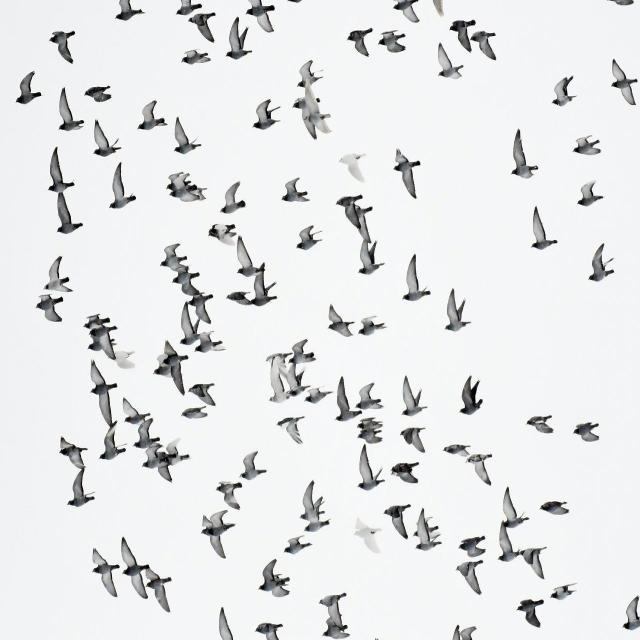bird: (88, 360, 120, 428), (290, 90, 330, 142), (152, 339, 190, 392), (198, 512, 239, 560), (45, 149, 78, 207), (229, 274, 280, 310), (176, 310, 219, 352), (336, 194, 378, 236), (398, 256, 435, 303), (608, 56, 639, 110), (510, 130, 543, 180), (82, 314, 121, 355), (152, 442, 191, 483), (107, 163, 140, 211), (393, 148, 423, 200), (91, 548, 121, 600), (180, 3, 220, 42), (528, 205, 561, 251), (396, 375, 430, 418), (296, 479, 330, 522), (118, 535, 150, 579), (460, 445, 494, 485), (62, 470, 95, 511), (147, 566, 175, 614), (443, 290, 473, 334), (258, 559, 291, 599), (223, 22, 254, 64), (56, 89, 86, 132), (356, 448, 386, 491), (330, 378, 358, 424), (170, 117, 203, 156), (433, 41, 464, 82), (500, 486, 530, 528), (265, 366, 298, 404), (57, 434, 90, 472), (90, 119, 122, 158), (456, 374, 484, 418), (588, 243, 618, 284), (338, 149, 370, 187), (95, 425, 127, 463), (354, 238, 384, 278), (242, 0, 276, 35), (234, 235, 268, 270), (54, 197, 83, 238), (382, 501, 414, 538), (455, 559, 486, 597), (271, 337, 316, 363), (40, 254, 72, 290), (450, 16, 480, 54), (210, 605, 242, 640), (349, 381, 381, 415), (414, 506, 441, 546), (136, 100, 168, 133), (518, 595, 548, 630), (326, 302, 355, 338), (522, 542, 550, 579), (238, 449, 269, 481), (48, 30, 76, 65), (16, 69, 43, 105), (276, 414, 306, 446), (344, 28, 374, 60), (352, 521, 380, 555), (219, 180, 246, 215), (278, 176, 309, 206), (130, 418, 158, 451), (36, 295, 66, 325), (574, 180, 604, 210), (495, 530, 520, 566), (252, 102, 280, 134), (165, 173, 198, 200), (390, 457, 420, 486), (398, 424, 427, 454), (214, 480, 242, 511), (317, 588, 348, 616), (552, 73, 578, 106), (188, 381, 218, 409), (295, 223, 323, 252), (121, 395, 149, 424), (475, 29, 499, 62), (295, 60, 323, 88), (356, 418, 384, 446), (571, 133, 602, 158), (392, 1, 423, 26), (621, 593, 640, 633), (317, 617, 350, 640), (113, 0, 143, 25), (572, 421, 601, 446), (379, 31, 409, 55), (456, 533, 486, 556), (358, 314, 386, 338), (280, 535, 312, 556), (527, 414, 555, 436), (548, 581, 576, 603), (180, 47, 210, 67), (207, 223, 237, 243), (539, 499, 570, 518), (254, 621, 285, 640), (84, 85, 114, 104), (165, 267, 195, 286), (301, 386, 329, 406), (160, 241, 186, 261), (181, 405, 213, 421), (452, 622, 478, 640), (442, 440, 468, 455), (608, 0, 638, 8)
